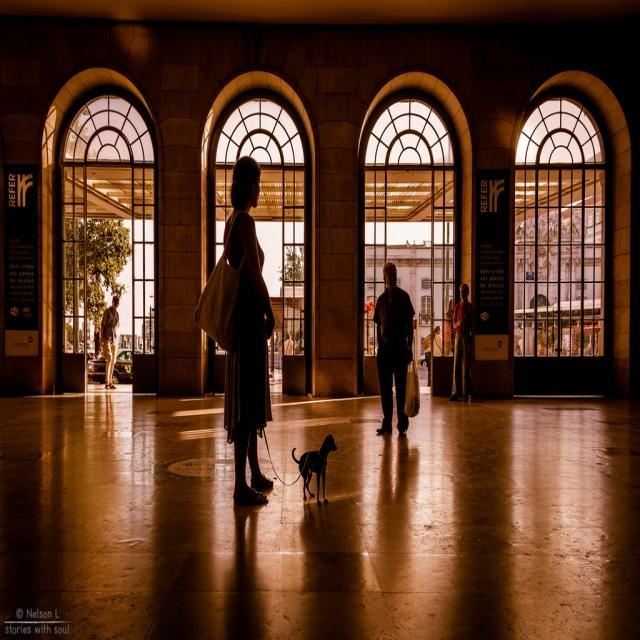door: (210, 163, 311, 401), (512, 163, 606, 400), (58, 167, 154, 391), (361, 164, 454, 393)
